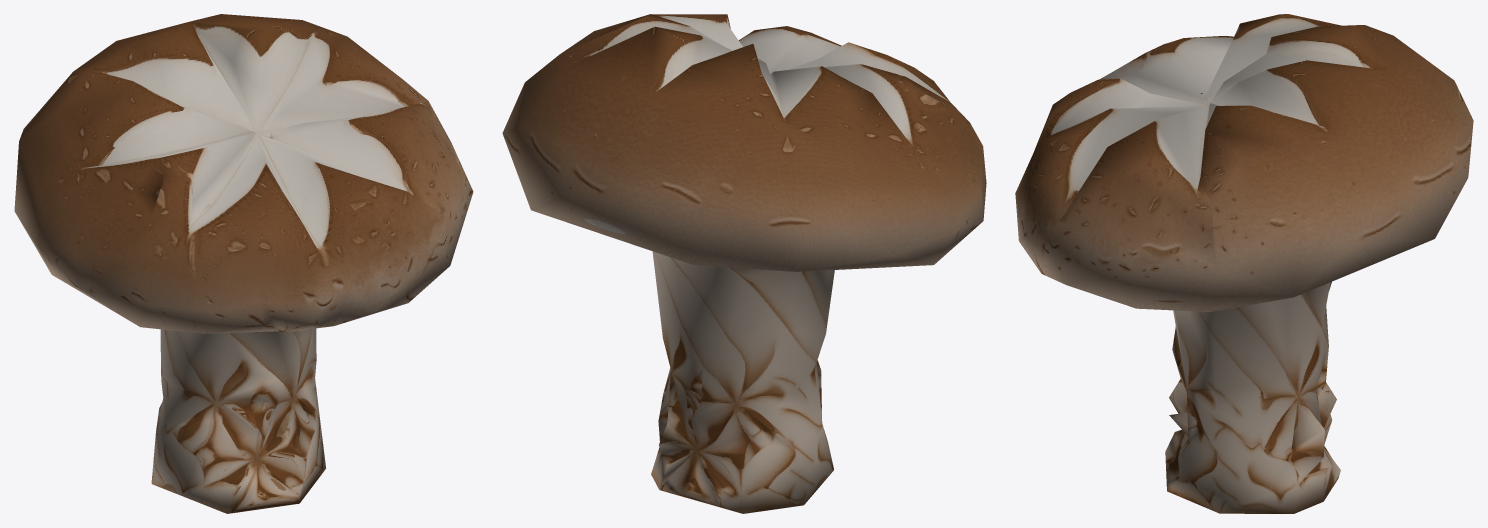
3 renders of one model, left to right at view 1: azimuth 30°, elevation 25°; view 2: azimuth 150°, elevation 25°; view 3: azimuth 270°, elevation 25°, orthographic. The views are drawn at different scales.
Visible parts, largest first — view 1: tripo_node_a1ab34f6; view 2: tripo_node_a1ab34f6; view 3: tripo_node_a1ab34f6.
Part boxes in pixels (box(x1,y1,x2,y2)): tripo_node_a1ab34f6: box(14, 14, 473, 513); tripo_node_a1ab34f6: box(502, 14, 986, 513); tripo_node_a1ab34f6: box(1015, 14, 1473, 513).
Bounding box in the file's own units: 0.956 × 0.9732 × 0.922.
1 material, 1 textured.
